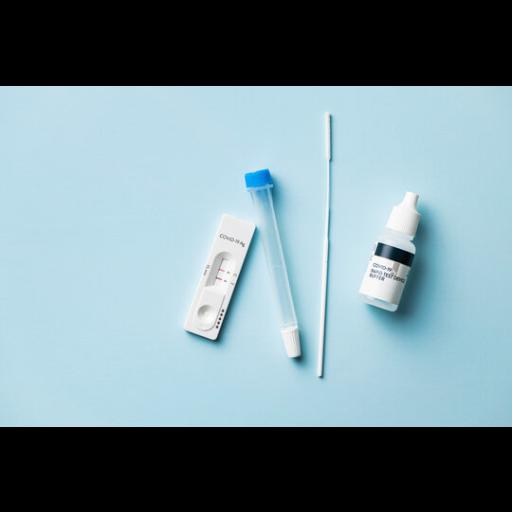Pos: (181, 214, 258, 342)
